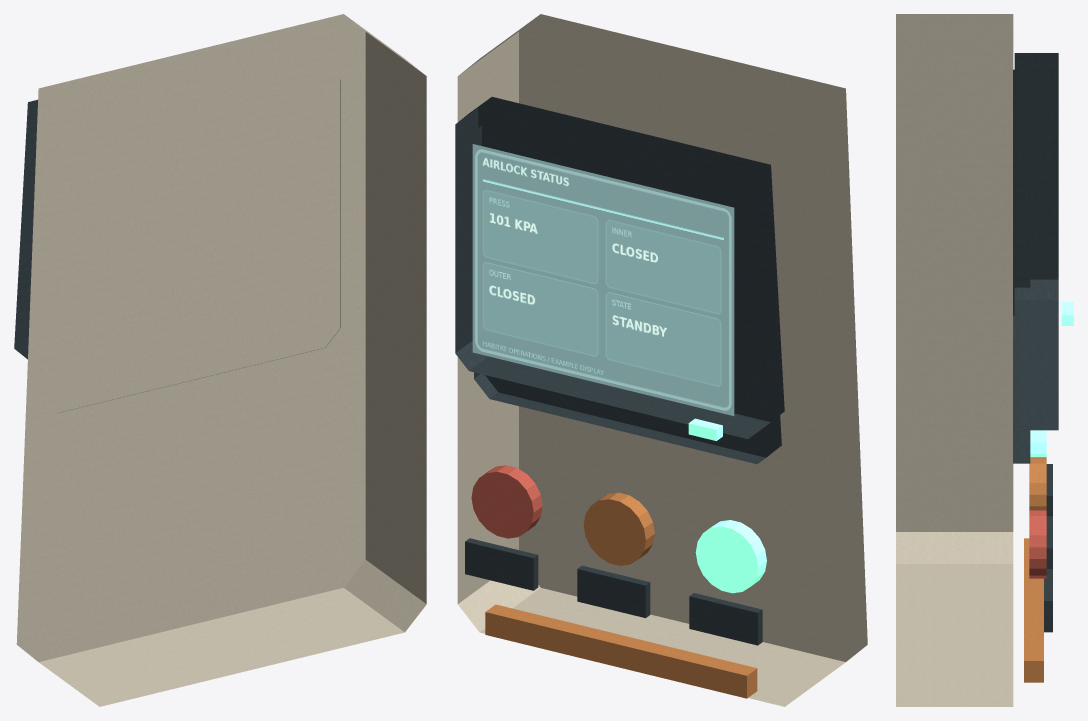
The model's file is airlock_control_panel.glb.
3 renders of one model, left to right at view 1: azimuth 30°, elevation 25°; view 2: azimuth 150°, elevation 25°; view 3: azimuth 270°, elevation 25°, orthographic. The views are drawn at different scales.
Parts seen in each view (by area): view 1: Panel_Shell__cream, Display__graphite; view 2: Panel_Shell__cream, Display__ui_airlock, Display__graphite, Safety_Band__amber, Cycle_Labels__graphite, Display_Housing__graphite, Cycle_Controls__amber, Cycle_Controls__mint, Cycle_Controls__red; view 3: Panel_Shell__cream, Display__graphite, Display_Housing__graphite, Safety_Band__amber, Cycle_Labels__graphite, Cycle_Controls__red, Cycle_Controls__amber, Cycle_Controls__mint, Display__mint.
Part boxes in pixels (x1,y1,x2,y2): Panel_Shell__cream: (16, 14, 426, 706); Display__graphite: (14, 99, 37, 359); Panel_Shell__cream: (457, 14, 867, 706); Display__ui_airlock: (472, 144, 734, 415); Display__graphite: (455, 97, 784, 438); Safety_Band__amber: (485, 604, 757, 698); Cycle_Labels__graphite: (465, 538, 762, 645); Display_Housing__graphite: (474, 115, 781, 464); Cycle_Controls__amber: (583, 492, 654, 565); Cycle_Controls__mint: (695, 520, 766, 593); Cycle_Controls__red: (471, 465, 542, 538); Panel_Shell__cream: (896, 14, 1013, 706); Display__graphite: (1014, 53, 1058, 430); Display_Housing__graphite: (1013, 69, 1030, 463); Safety_Band__amber: (1024, 538, 1043, 682); Cycle_Labels__graphite: (1044, 464, 1052, 632); Cycle_Controls__red: (1029, 510, 1046, 578); Cycle_Controls__amber: (1029, 457, 1046, 509); Cycle_Controls__mint: (1030, 430, 1046, 457); Display__mint: (1061, 302, 1073, 325).
Size of the model in its own units: 0.56 by 0.88 by 0.258.
Materials: 6 (6 with a texture image).
